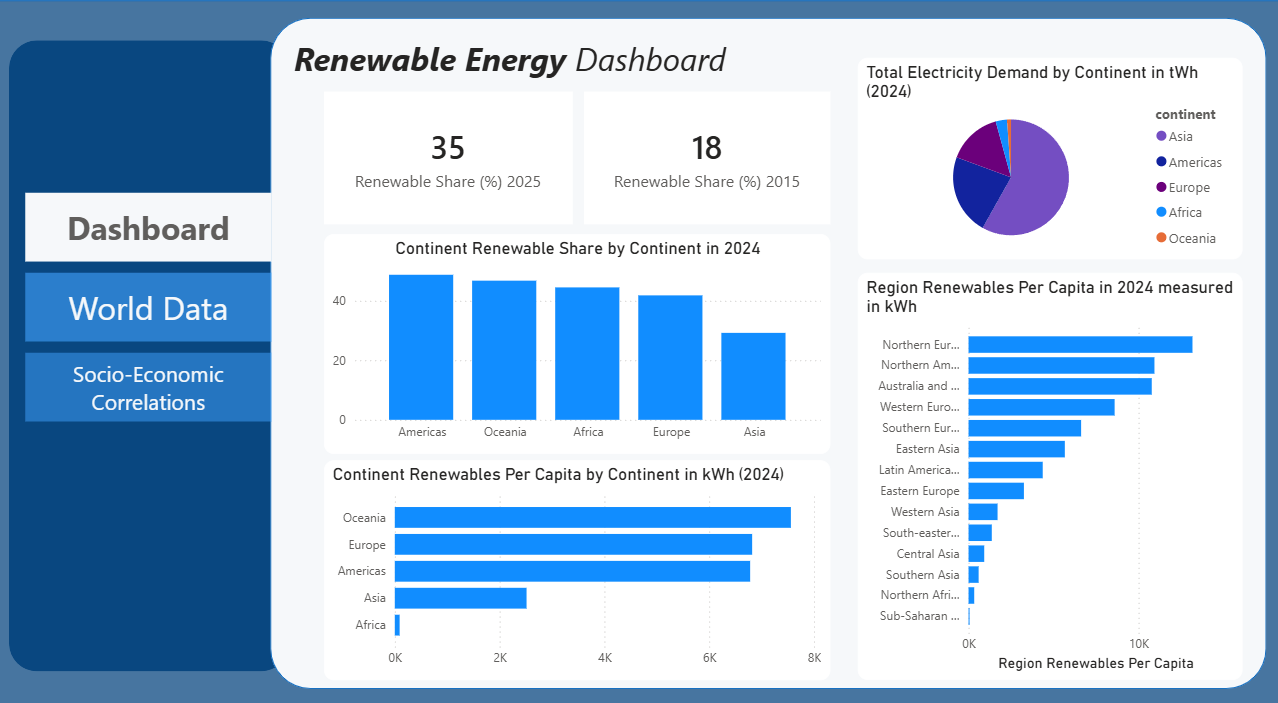

This screenshot's page, from the dashboard's own definition file:
{"tool":"powerbi","page":{"name":"Dashboard","canvas":[1280,720],"ordinal":0},"visuals":[{"type":"group","id":"g1","title":"Sidebar","box":[0,16.2,1280,703.8],"z":0},{"type":"shape","box":[0,16.2,1280,703.8],"z":0,"group":"g1"},{"type":"shape","box":[10,56.2,280,631.2],"z":1000,"group":"g1"},{"type":"barChart","title":"Continent Renewables Per Capita by Continent in kWh (2024)","fields":{"Category":["country_dim.continent"],"Y":["_Measures.Region Renewables Per Capita"]},"box":[325,476.2,506.2,220],"z":1000},{"type":"shape","box":[271.2,33.7,996.2,671.2],"z":2000,"group":"g1"},{"type":"columnChart","title":"Continent Renewable Share by Continent in 2024","fields":{"Category":["country_dim.continent"],"Y":["_Measures.Continent Renewable Share (%)"]},"box":[325,250,506.2,220],"z":2000},{"type":"clusteredBarChart","title":"Region Renewables Per Capita in 2024 measured in kWh","fields":{"Category":["country_dim.sub-region"],"Y":["_Measures.Region Renewables Per Capita"]},"box":[858.8,288.8,385,407.5],"z":3000},{"type":"textbox","box":[290,47.4,817.5,60],"z":4000,"group":"g1"},{"type":"cardVisual","fields":{"Data":["_Measures.Region Renewable Share (%)"]},"box":[325,107.5,248.8,132.5],"z":4000},{"type":"cardVisual","fields":{"Data":["Median(energy_fact.renewables_share_elec)"]},"box":[585,107.5,246.2,132.5],"z":5000},{"type":"actionButton","box":[26.2,208.9,246.2,68.5],"z":5000,"group":"g1"},{"type":"pieChart","title":"Total Electricity Demand by Continent in tWh (2024)","fields":{"Category":["country_dim.continent"],"Y":["Sum(energy_fact.electricity_demand)"]},"box":[858.8,73.8,385,201.2],"z":6000},{"type":"actionButton","box":[26.2,288.7,246.2,68.8],"z":6000,"group":"g1"},{"type":"actionButton","box":[26.2,368.7,246.2,68.8],"z":7000,"group":"g1"}]}

Visuals, with their boxes on the page's 1280x720 design canvas (x1, y1, x2, y2). These are canvas units, not pixel positions in the 1278x703 screenshot, which may show the page scaled, cropped or inside an application window:
"Sidebar" group: [left=0, top=16, right=1280, bottom=720]
shape: [left=0, top=16, right=1280, bottom=720]
shape: [left=10, top=56, right=290, bottom=687]
"Continent Renewables Per Capita by Continent in kWh (2024)" barChart: [left=325, top=476, right=831, bottom=696]
shape: [left=271, top=34, right=1267, bottom=705]
"Continent Renewable Share by Continent in 2024" columnChart: [left=325, top=250, right=831, bottom=470]
"Region Renewables Per Capita in 2024 measured in kWh" clusteredBarChart: [left=859, top=289, right=1244, bottom=696]
textbox: [left=290, top=47, right=1108, bottom=107]
cardVisual - _Measures.Region Renewable Share (%): [left=325, top=108, right=574, bottom=240]
cardVisual - Median(energy_fact.renewables_share_elec): [left=585, top=108, right=831, bottom=240]
actionButton: [left=26, top=209, right=272, bottom=277]
"Total Electricity Demand by Continent in tWh (2024)" pieChart: [left=859, top=74, right=1244, bottom=275]
actionButton: [left=26, top=289, right=272, bottom=358]
actionButton: [left=26, top=369, right=272, bottom=438]
